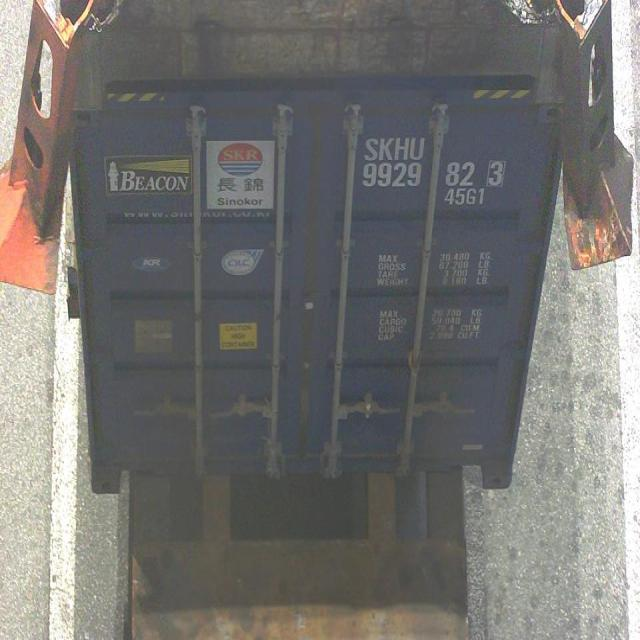ISO: (446, 188, 486, 207)
container_number: (358, 129, 533, 186)
